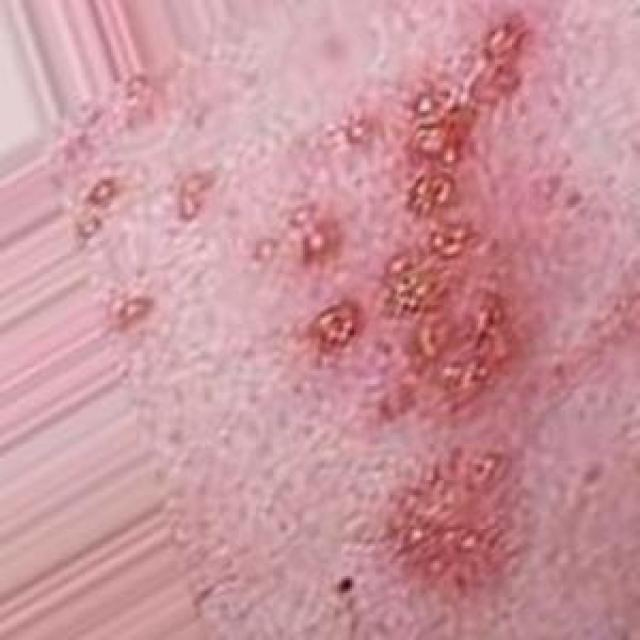Shingles: (310, 17, 534, 417), (385, 437, 520, 593)
